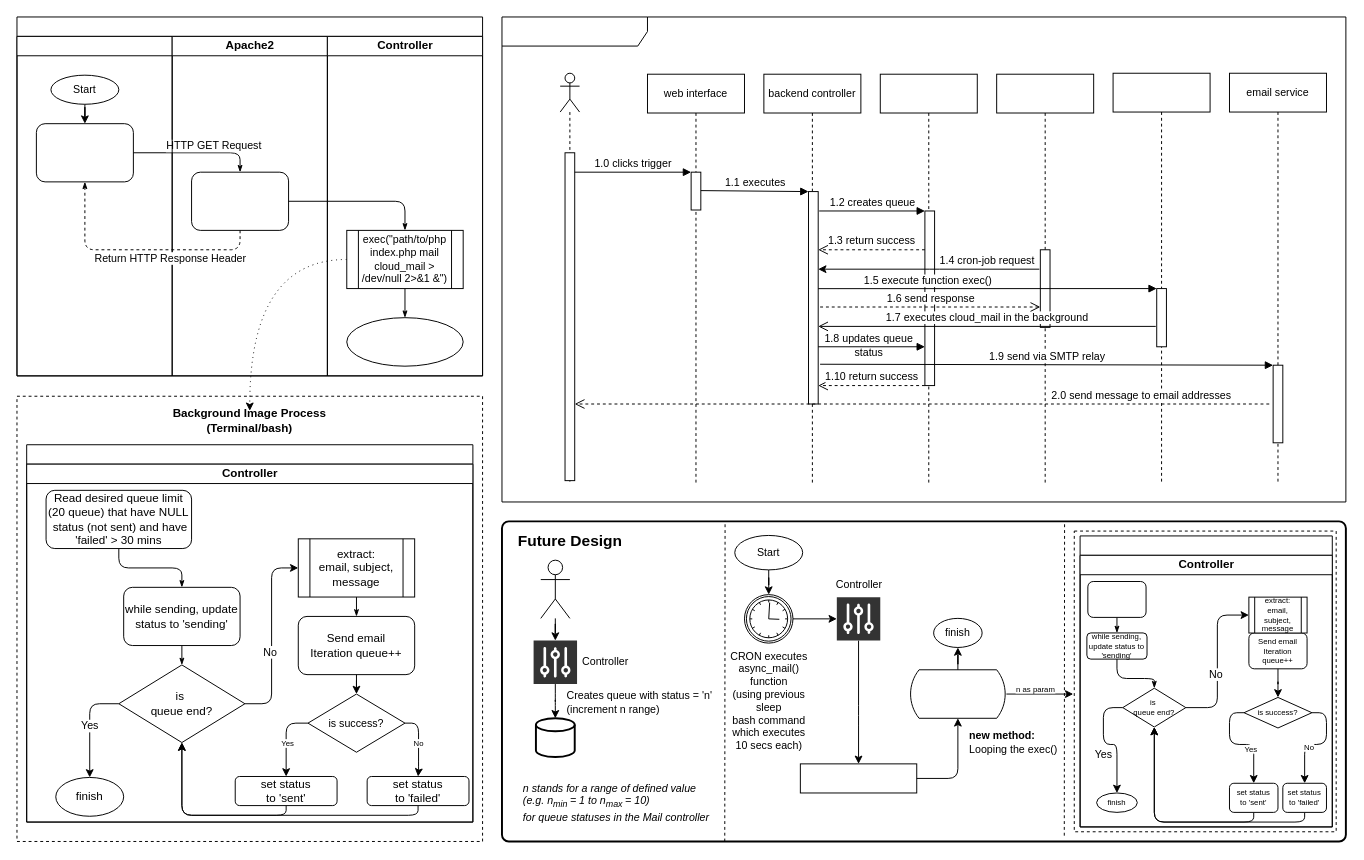
Image size: 1364x860. Some labels were removed from this diagram. The shapes that lost their labels are listed below. From the top down, each one's box as (x1, y1, x2, y2) in pixels, then its label:
(35, 123, 133, 182): Execute HTTP Request each 10 seconds
(16, 35, 172, 376): Cron Job (bash crontab -e)
(191, 171, 289, 230): Server Receives the request and forward to controller
(16, 16, 483, 376): (1) Asynchronous Queue Email Flowchart
(501, 16, 1346, 502): general sd queue email
(879, 73, 977, 483): queue database
(996, 73, 1094, 483): cron job
(1112, 72, 1210, 483): bash
(346, 317, 463, 366): Finish (less than a second)
(540, 559, 570, 618): User triggers event
(1087, 581, 1146, 617): execute status = 'n' and have 'failed' > 30 mins
(26, 444, 473, 822): (2) cloud_mail() function executed by bash
(908, 669, 1006, 718): Loop the exec() from n min to n max (using for loop)
(1079, 535, 1332, 827): cloud_mail(n) function executed by bash bg process
(534, 717, 575, 758): DB
(799, 763, 917, 793): function async_mail()
